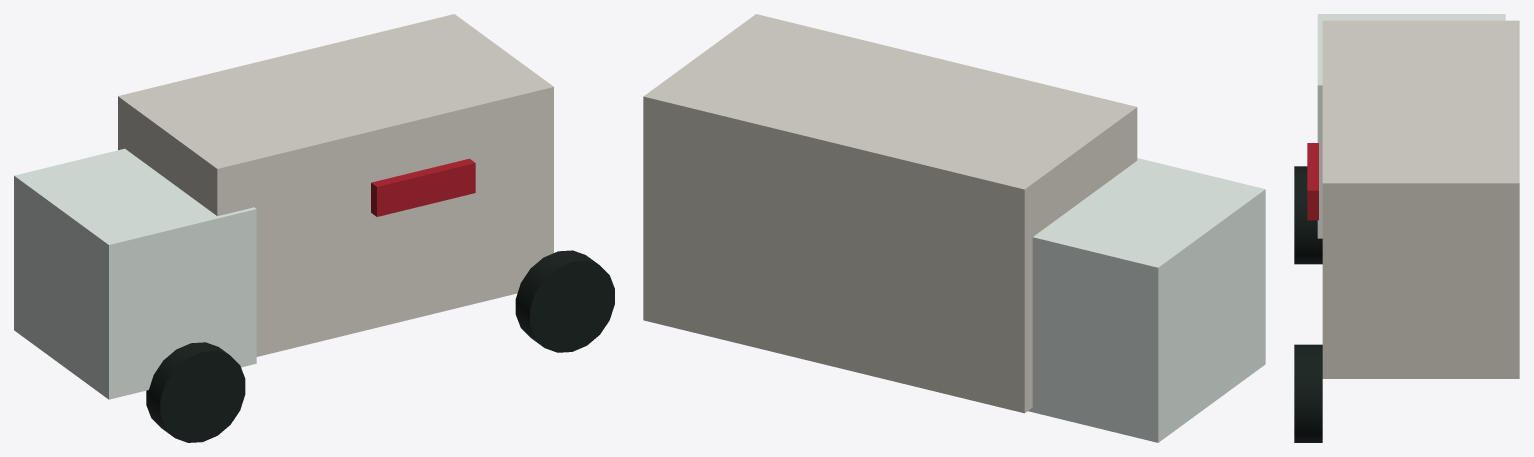
Rendered from delivery_truck.glb.
3 views of the same model, side by side, from view 1: azimuth 30°, elevation 25°; view 2: azimuth 150°, elevation 25°; view 3: azimuth 270°, elevation 25° (orthographic). The views are drawn at different scales.
Visible parts, largest first — view 1: cargo, cab, wheel_0.42, wheel_-0.48, red_logo; view 2: cargo, cab; view 3: cargo, wheel_0.42, cab, wheel_-0.48, red_logo.
Boxes of the visible parts, x1,y1,x2,y2 form: cargo: (118, 14, 553, 356); cab: (14, 148, 256, 399); wheel_0.42: (515, 250, 614, 352); wheel_-0.48: (146, 342, 245, 442); red_logo: (371, 158, 475, 216); cargo: (643, 14, 1137, 413); cab: (1028, 158, 1265, 442); cargo: (1322, 20, 1519, 378); wheel_0.42: (1294, 344, 1322, 442); cab: (1317, 14, 1505, 238); wheel_-0.48: (1294, 166, 1322, 264); red_logo: (1307, 143, 1318, 220).
Size of the model in its own units: 1.2 by 0.595 by 0.48.
